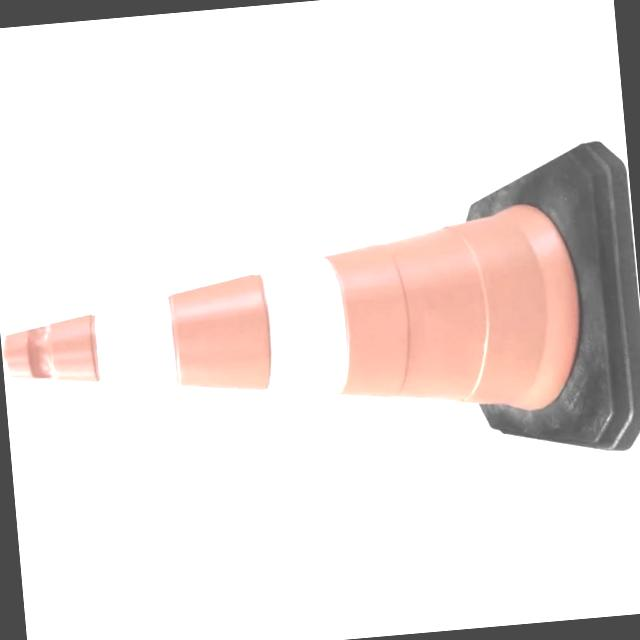cone: (0, 139, 635, 498)
